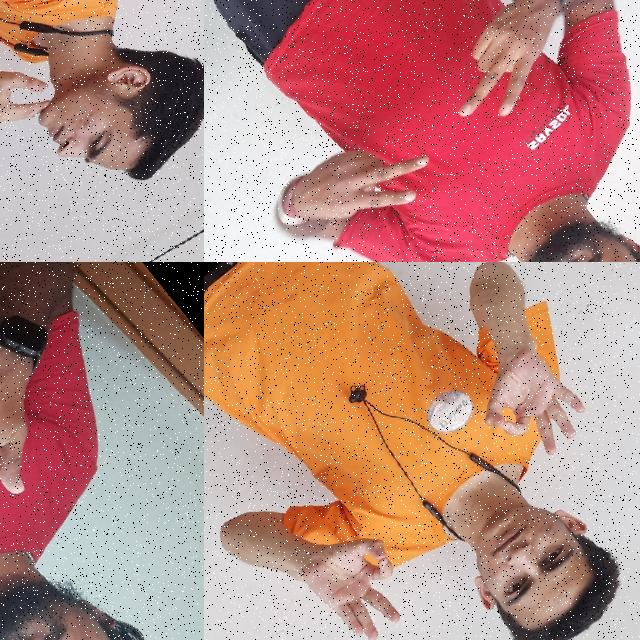Chin Flick: (0, 0, 204, 256)
Five Fathers: (0, 319, 88, 640)
Okay: (454, 328, 608, 482), (288, 511, 438, 640)
Reversed Victory: (255, 93, 453, 262), (413, 0, 601, 156)
